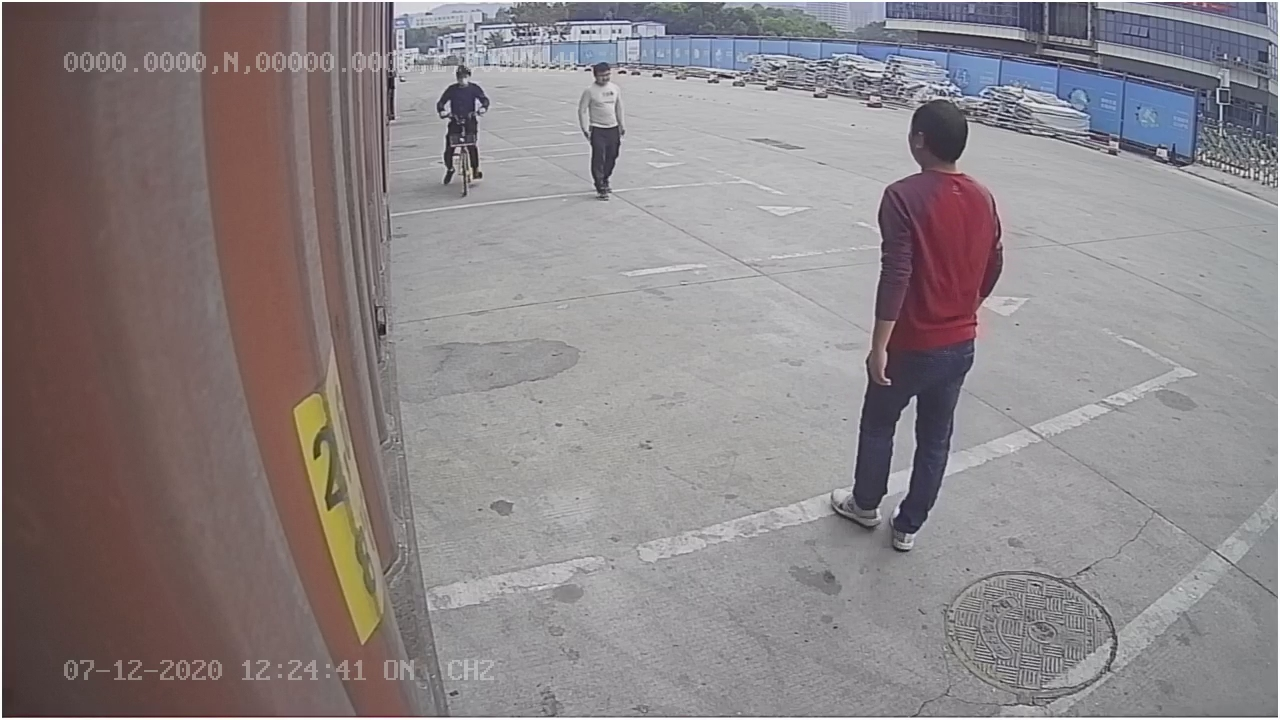person: (573, 60, 631, 204)
